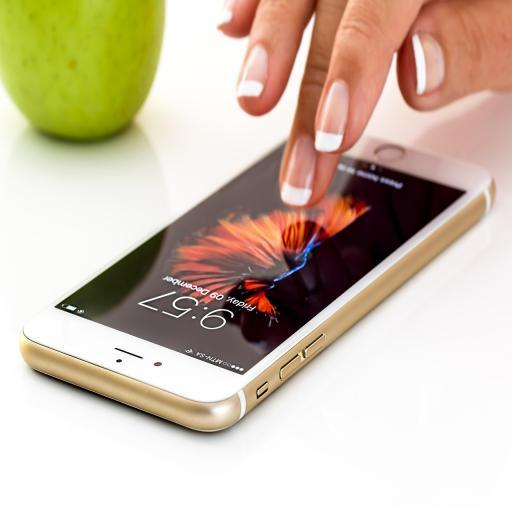phone: (28, 132, 512, 404)
